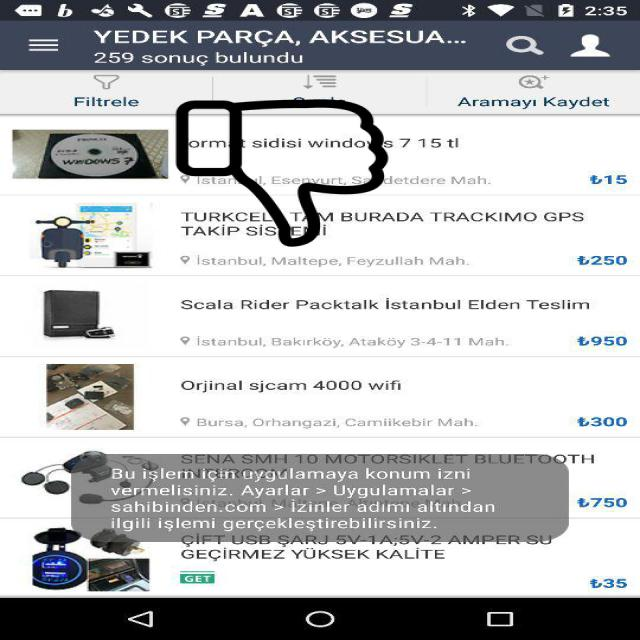obstruction: (173, 99, 391, 247)
